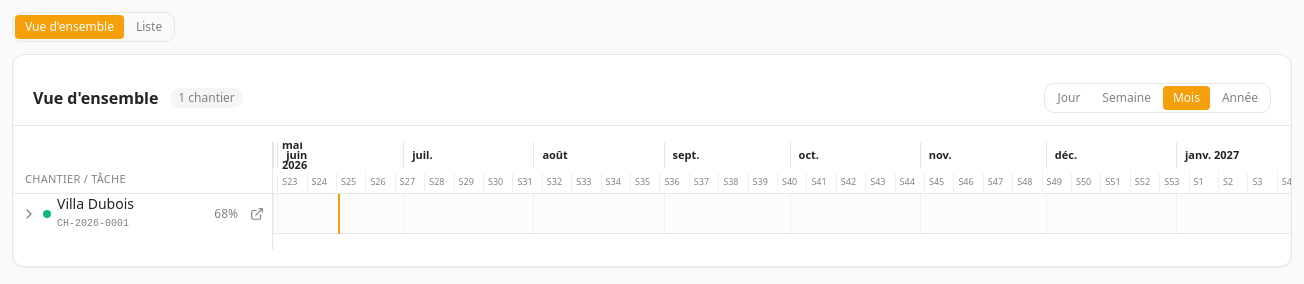
Test: PlanningVues › bascule vers la « Liste » (tableau) puis revient
Click the button "Liste" at (149, 27), box [126,15,172,39]
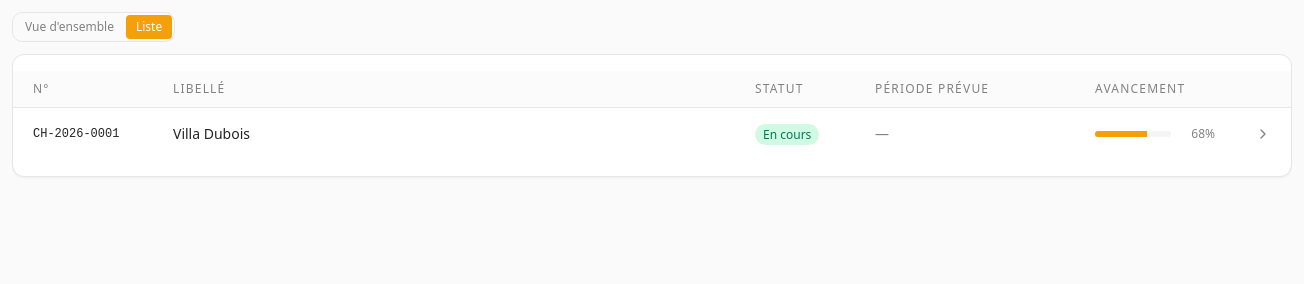
Check: the table is shown, box [13,71,1291,160]
Check: the button "Mois" is gone
Click the button "Vue d'ensemble" at (69, 27), box [15,15,124,39]
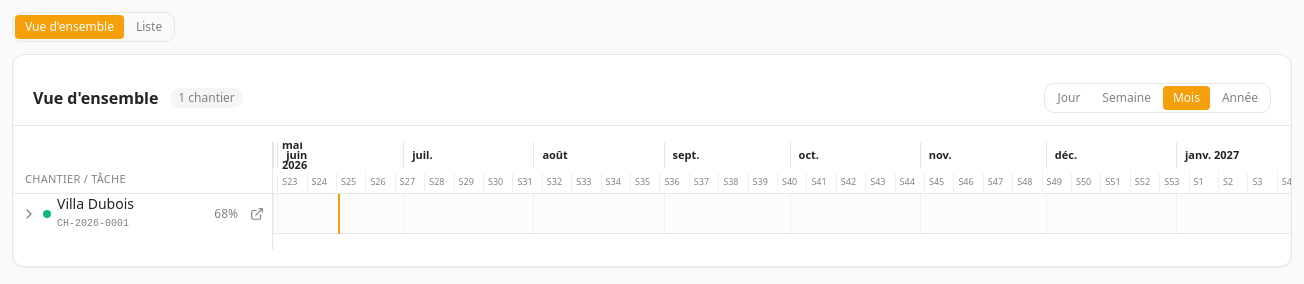
Check: the table is gone
Check: the button "Mois" is shown, box [1163,86,1210,110]
